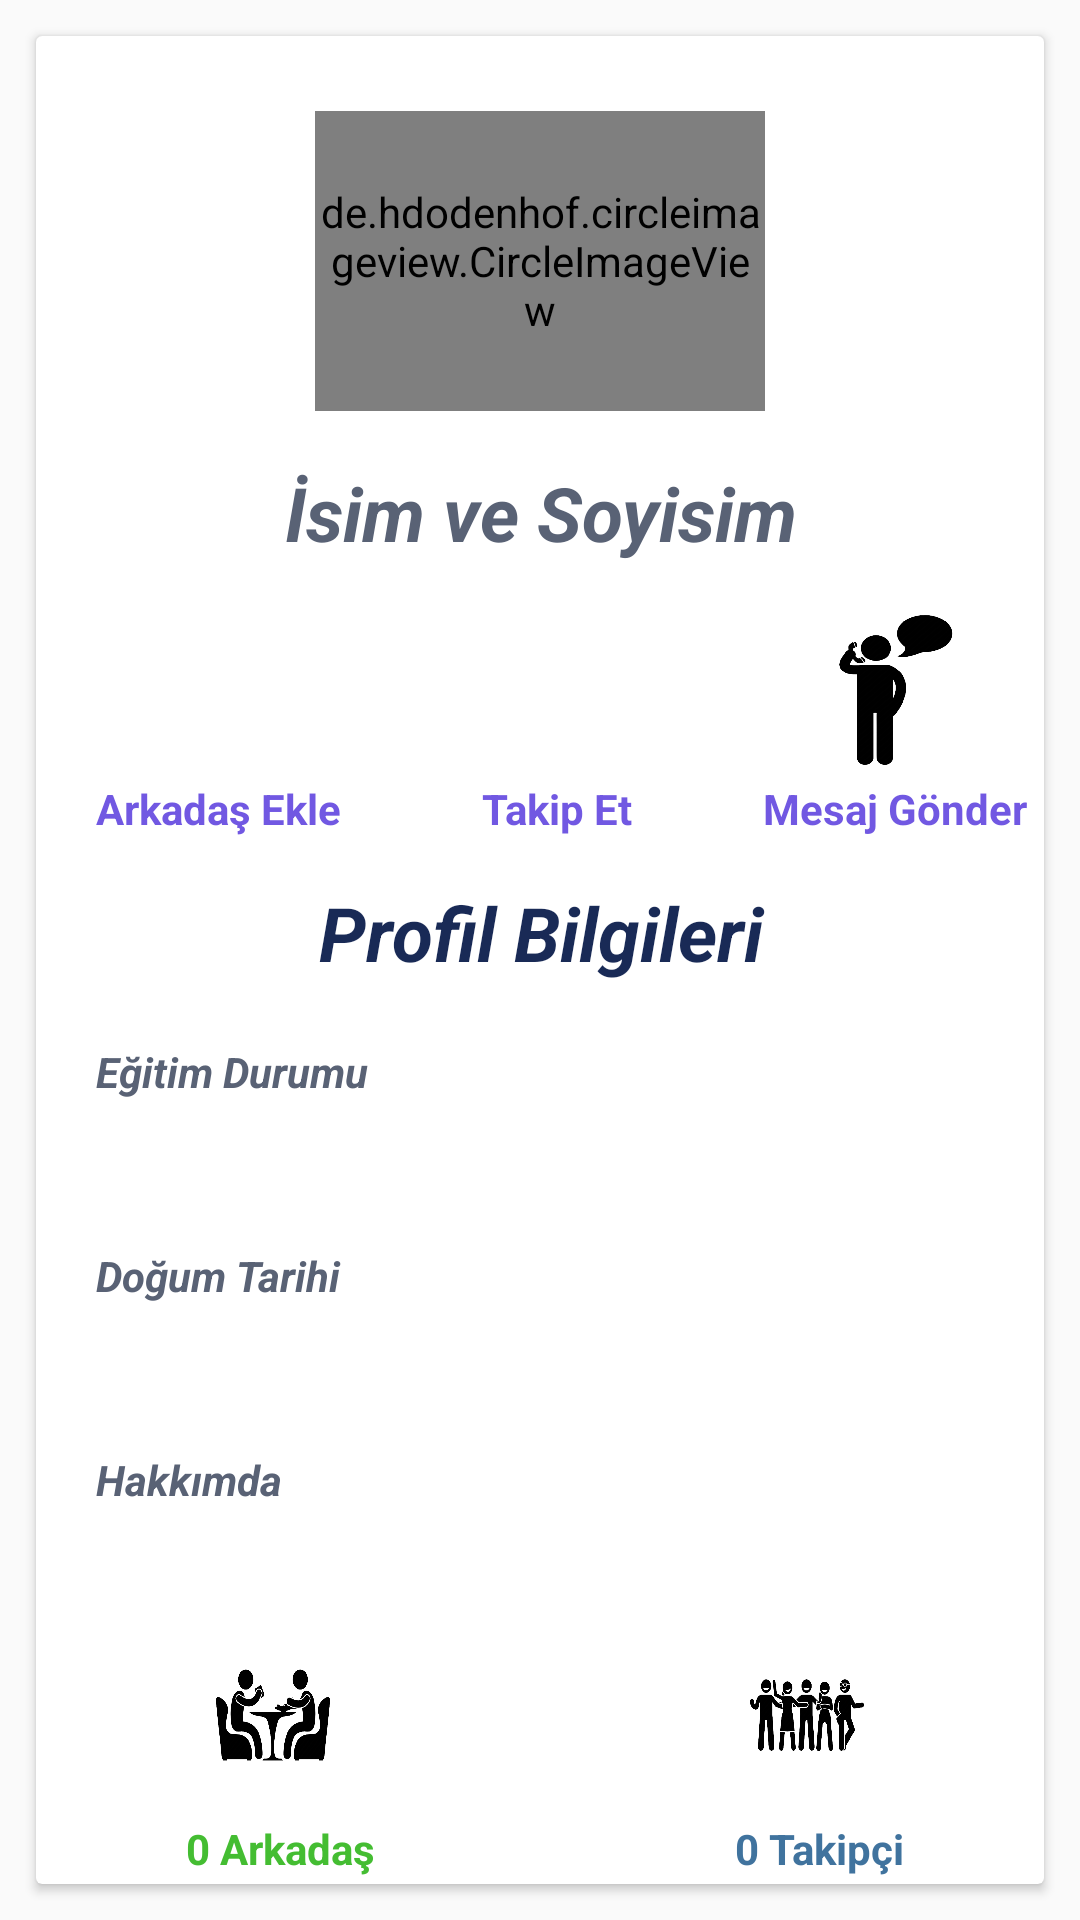

Where icons sit on this 1080 × 1920 app screen, as (x1, y1, x2, y2):
arklar: (216, 1669, 330, 1761)
takipciler: (750, 1679, 864, 1751)
